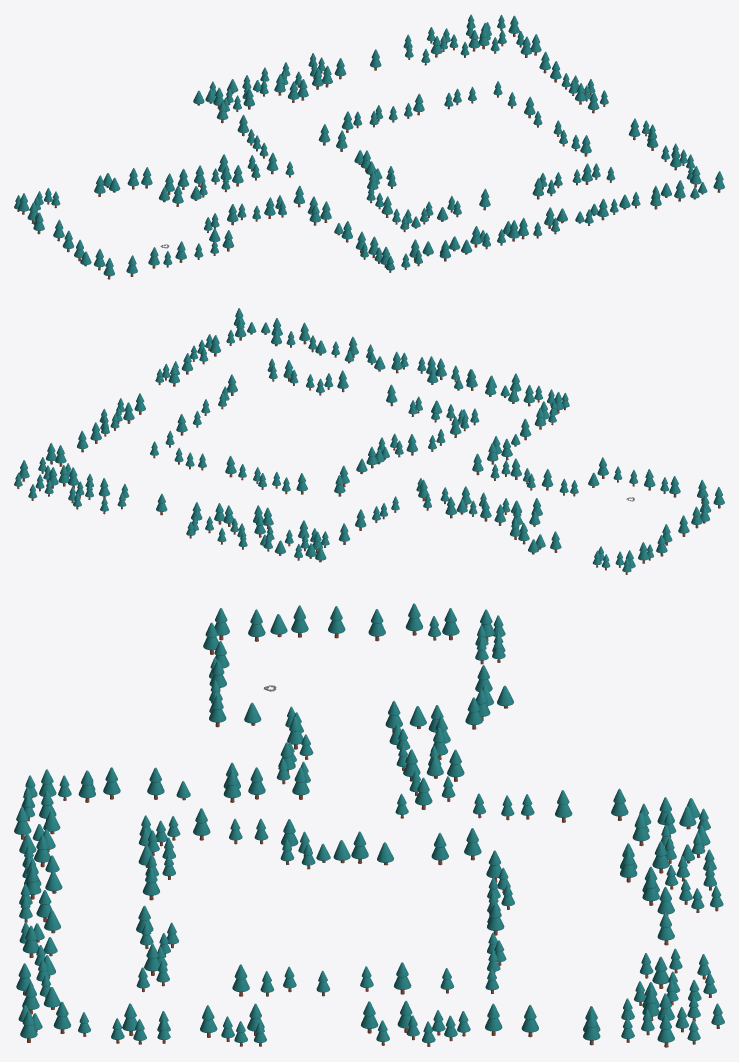
The model's file is Rocas_Pinos.fbx.
The picture shows the model from 3 angles, top to bottom: view 1: azimuth 30°, elevation 25°; view 2: azimuth 150°, elevation 25°; view 3: azimuth 270°, elevation 25°; orthographic projection. The views are drawn at different scales.
Bounding box in the file's own units: 140 × 5.13 × 100.
